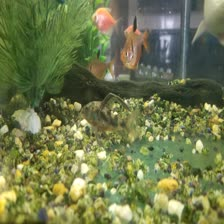Kiros: (76, 92, 145, 137)
Transparente: (116, 20, 152, 69)
